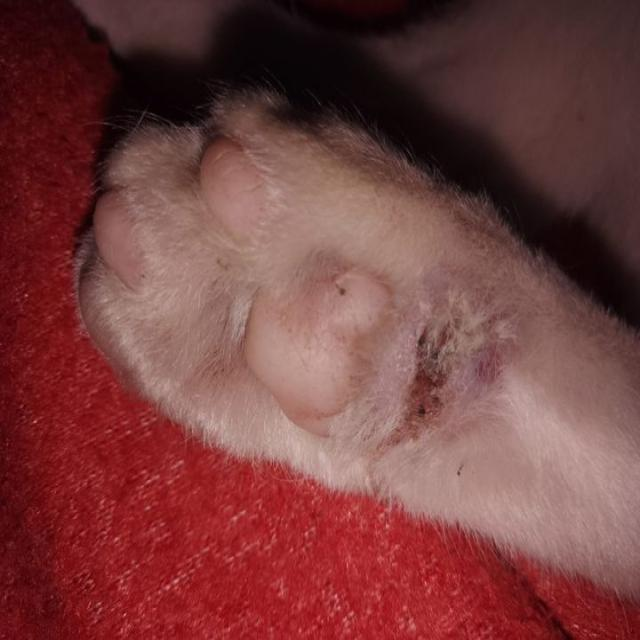Ringworm: (398, 330, 456, 441)
